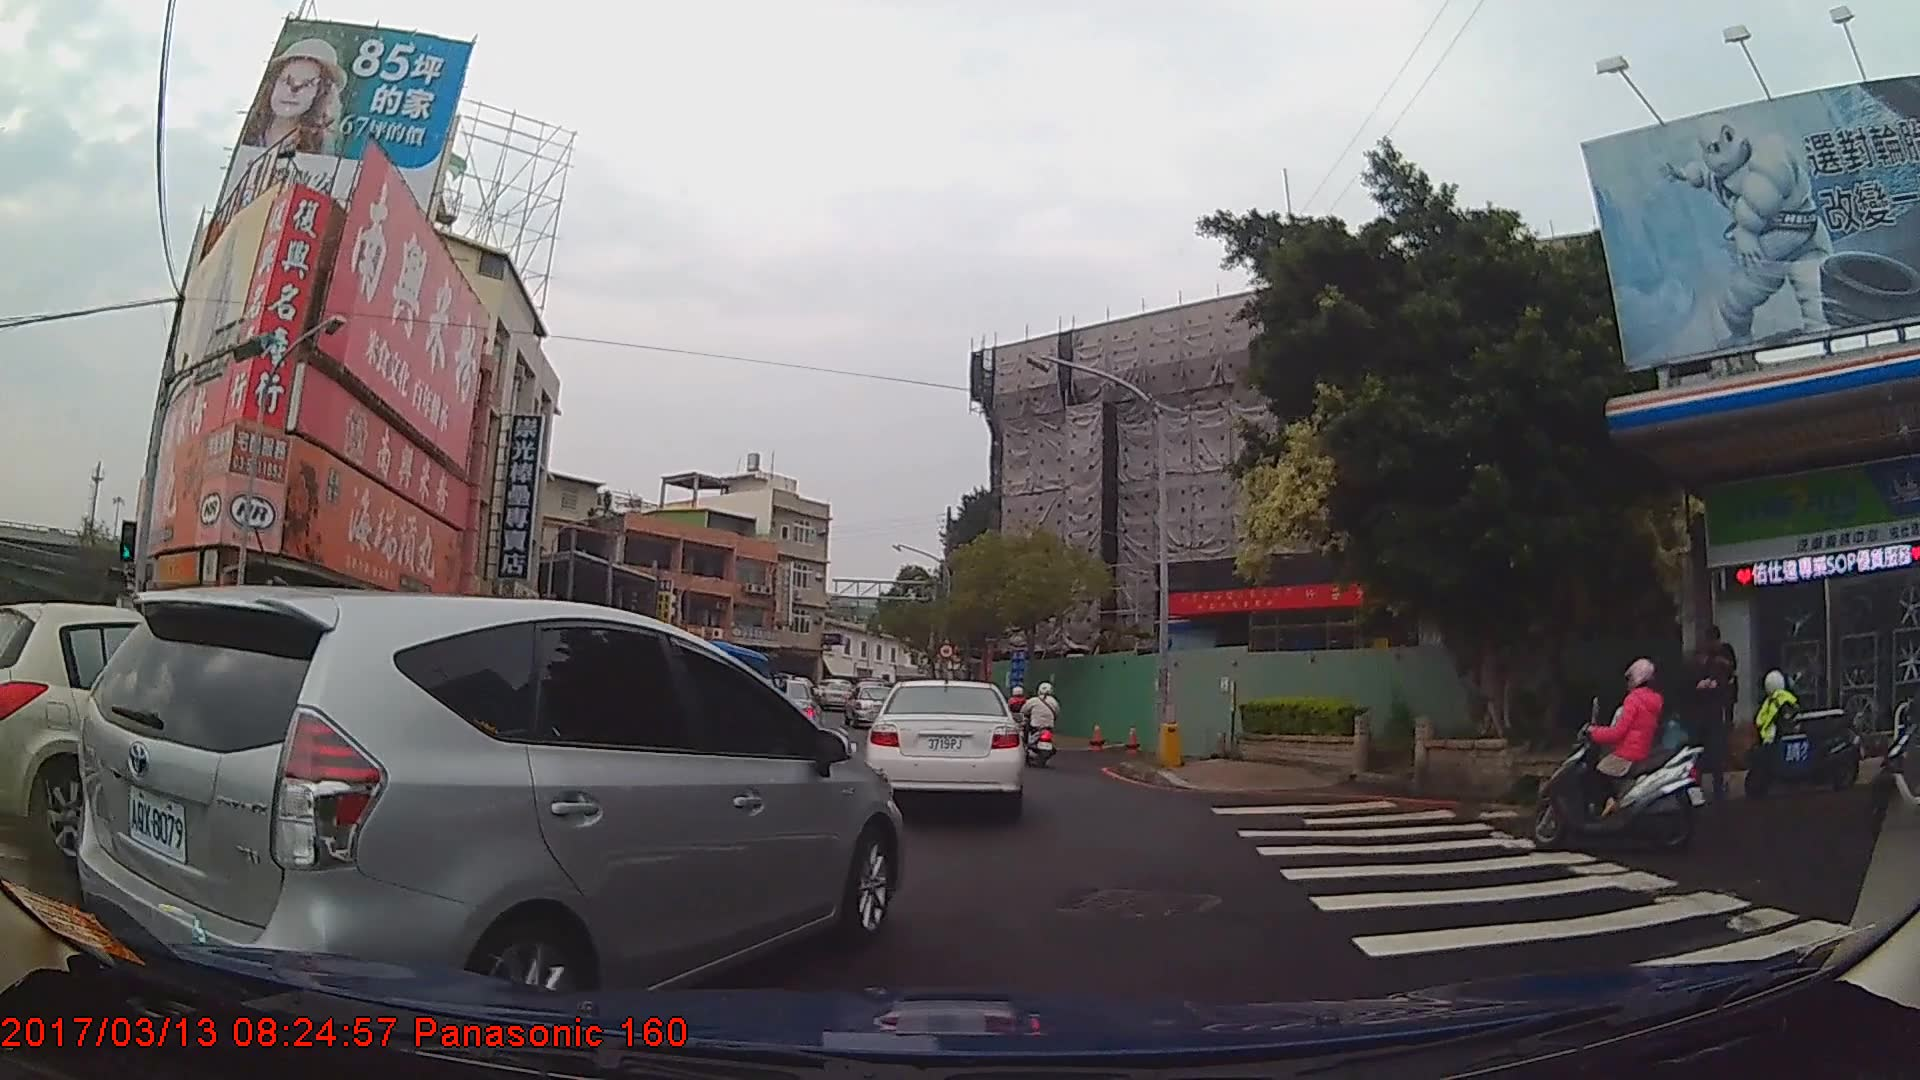pedestrian: (1684, 632, 1741, 811), (1695, 621, 1745, 748)
rider: (1518, 660, 1704, 850), (1026, 680, 1061, 766)
vehicle: (73, 583, 909, 1029), (0, 599, 419, 870), (863, 679, 1026, 819)
